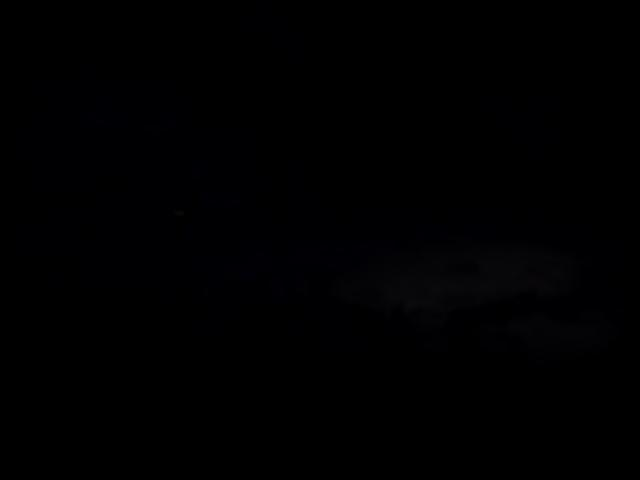uav: (163, 185, 203, 249)
